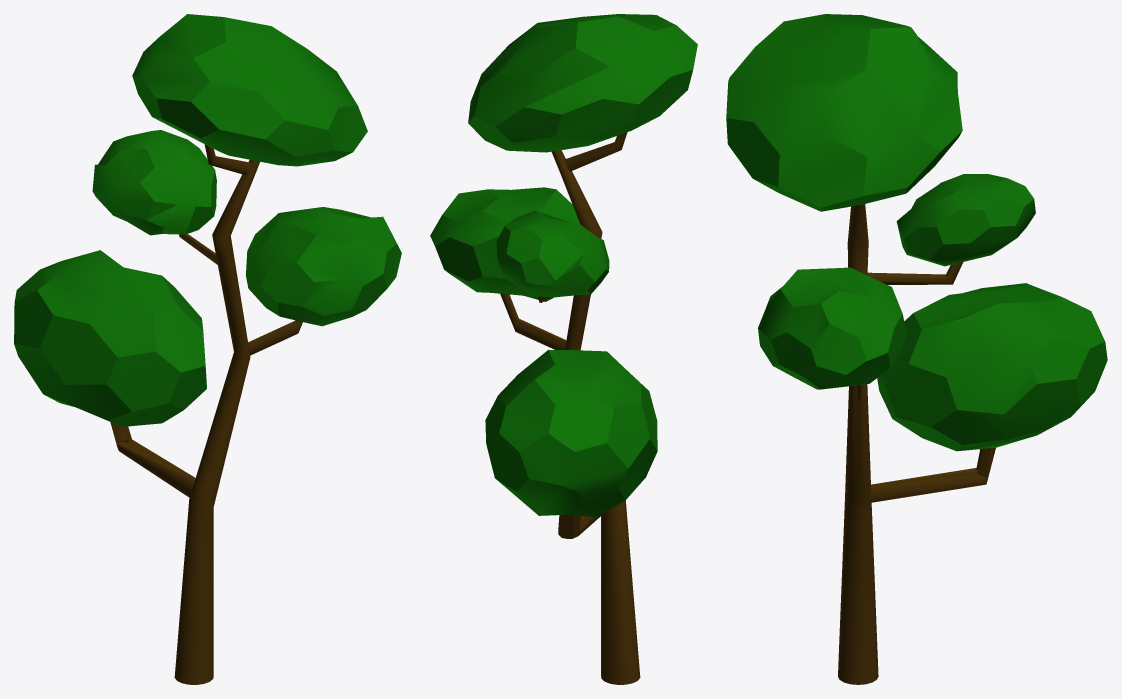
File: tree.fbx
The picture shows the model from 3 angles, left to right: view 1: azimuth 30°, elevation 25°; view 2: azimuth 150°, elevation 25°; view 3: azimuth 270°, elevation 25°; orthographic projection. The views are drawn at different scales.
Visible parts, largest first — view 1: Platonic_3, Platonic, Cylinder, Platonic_2, Platonic_1; view 2: Platonic, Platonic_3, Cylinder, Platonic_2, Platonic_1; view 3: Platonic, Platonic_3, Platonic_2, Cylinder, Platonic_1.
Boxes of the visible parts, x1,y1,x2,y2 form: Platonic_3: (14, 250, 206, 426); Platonic: (132, 14, 367, 166); Cylinder: (110, 144, 302, 684); Platonic_2: (246, 207, 401, 326); Platonic_1: (92, 130, 216, 235); Platonic: (468, 14, 697, 152); Platonic_3: (485, 349, 657, 517); Cylinder: (500, 132, 640, 684); Platonic_2: (430, 187, 579, 301); Platonic_1: (496, 210, 609, 297); Platonic: (726, 14, 962, 211); Platonic_3: (877, 283, 1107, 451); Platonic_2: (758, 267, 906, 389); Cylinder: (838, 204, 995, 684); Platonic_1: (896, 174, 1035, 266).
Bounding box in the file's own units: 165 × 358 × 186.
